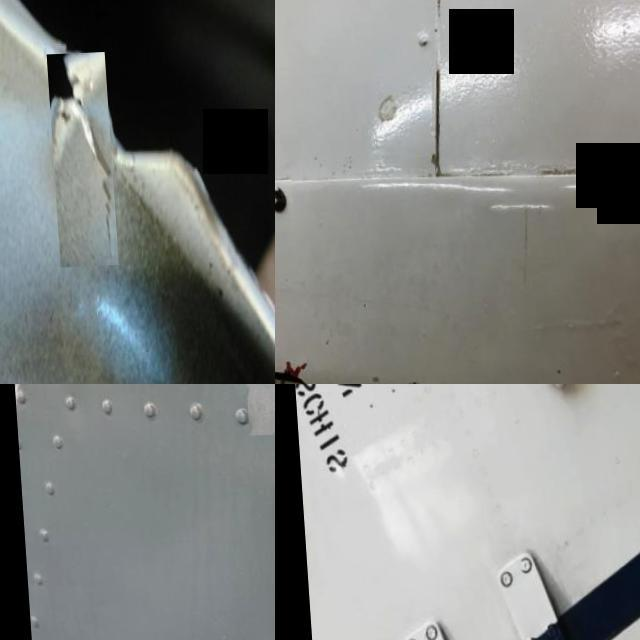Crack: (47, 57, 109, 269), (586, 166, 630, 240), (275, 344, 308, 384), (275, 174, 289, 233)
